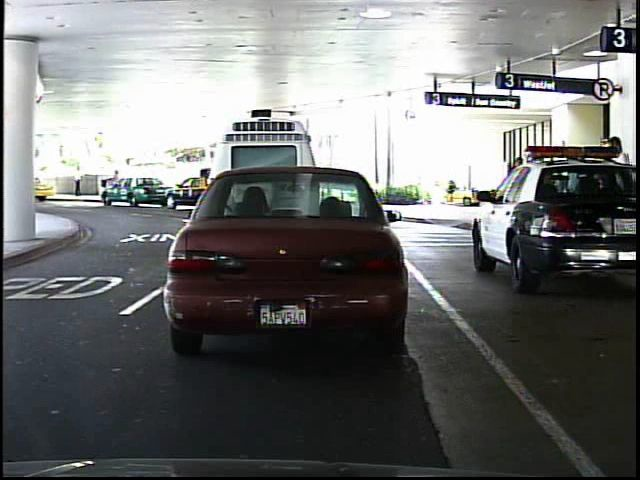person: (599, 133, 634, 252), (107, 166, 125, 202), (72, 162, 86, 198)
